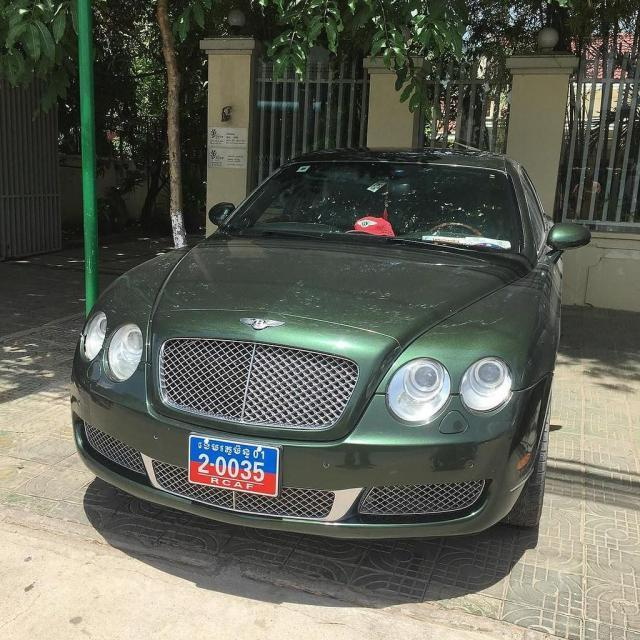RCAF: (198, 440, 250, 459)
